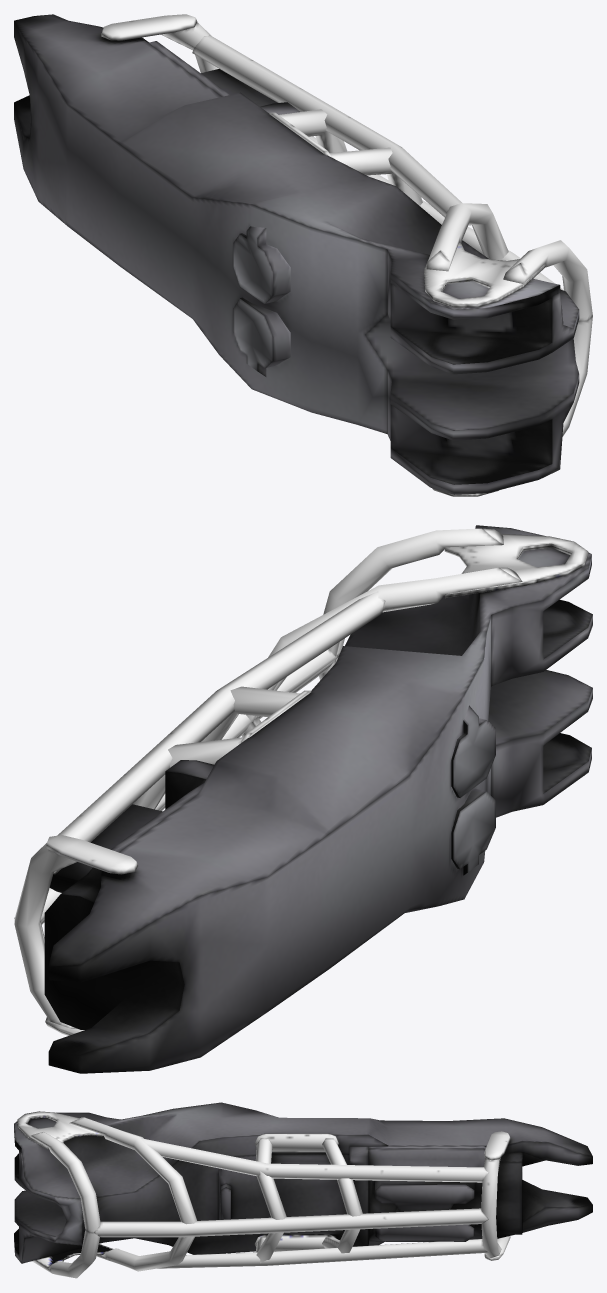
File: l_lleg.obj
3 views of the same model, one above another, from view 1: azimuth 30°, elevation 25°; view 2: azimuth 150°, elevation 25°; view 3: azimuth 270°, elevation 25° (orthographic). The views are drawn at different scales.
Visible parts, largest first — view 1: l_lleg; view 2: l_lleg; view 3: l_lleg.
Part boxes in pixels (box(x1,y1,x2,y2)): l_lleg: box(14, 14, 592, 496); l_lleg: box(14, 525, 592, 1073); l_lleg: box(14, 1102, 592, 1278).
Bounding box in the file's own units: 0.1368 × 0.116 × 0.4522.
